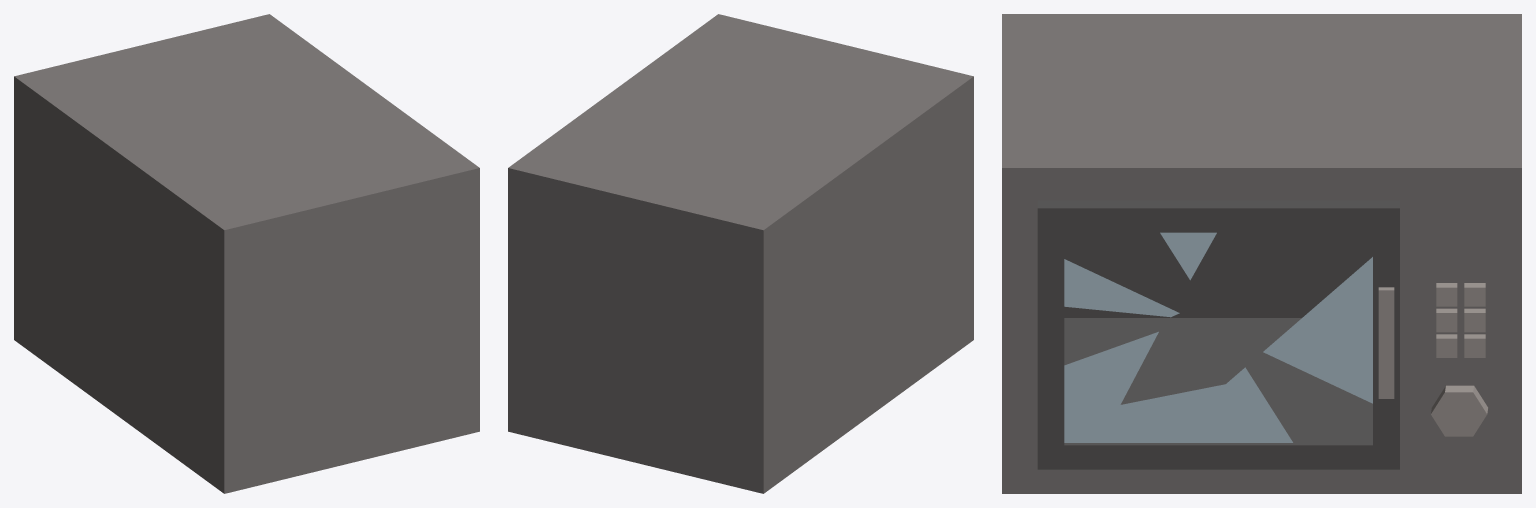
Rendered from microwave_broken.fbx.
3 renders of one model, left to right at view 1: azimuth 30°, elevation 25°; view 2: azimuth 150°, elevation 25°; view 3: azimuth 270°, elevation 25°, orthographic. The views are drawn at different scales.
Visible parts, largest first — view 1: microwave_broken; view 2: microwave_broken; view 3: microwave_broken.
Part boxes in pixels (bbox=[...]): microwave_broken: bbox=[14, 14, 479, 493]; microwave_broken: bbox=[508, 14, 973, 493]; microwave_broken: bbox=[1002, 14, 1521, 493].
Size of the model in its own units: 73.72 by 56.26 by 50.99.
